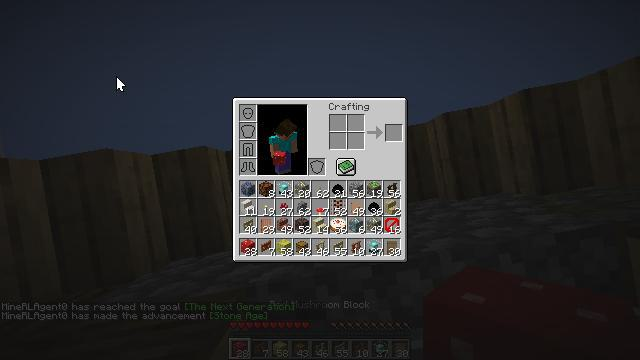cursor: (116, 76, 126, 92)
